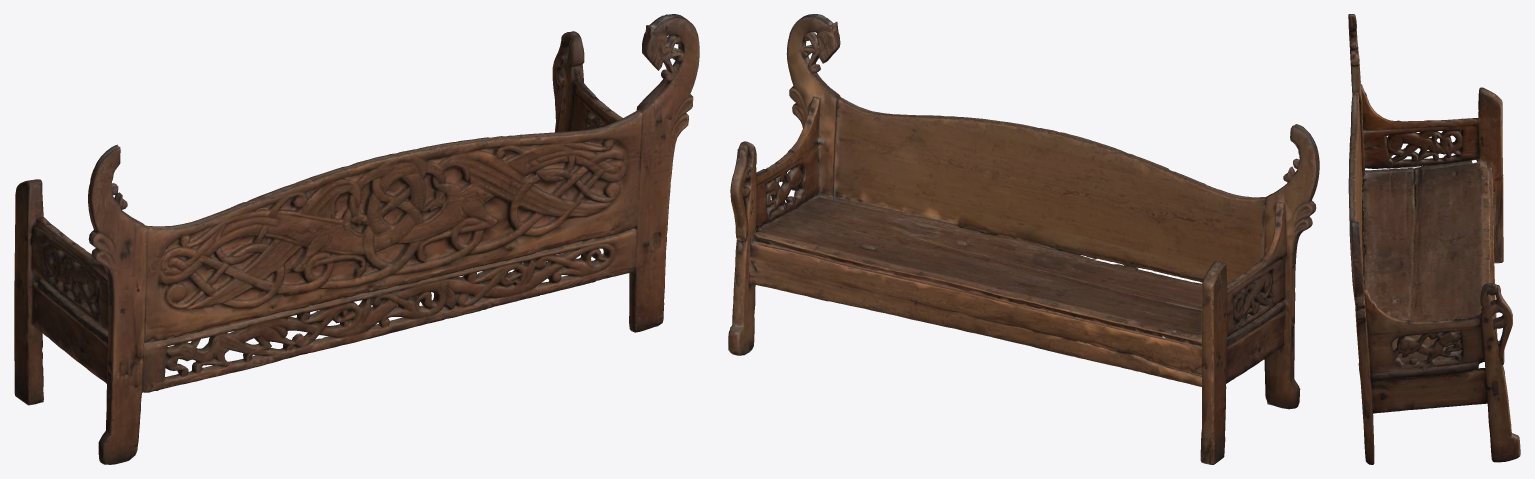
The model's file is bench_the_kungsa_ra_historiska.glb.
The picture shows the model from 3 angles, left to right: view 1: azimuth 30°, elevation 25°; view 2: azimuth 150°, elevation 25°; view 3: azimuth 270°, elevation 25°; orthographic projection. The views are drawn at different scales.
Visible parts, largest first — view 1: Object_2; view 2: Object_2; view 3: Object_2.
Part boxes in pixels (x1=…): Object_2: x1=14, y1=14, x2=699, y2=464; Object_2: x1=728, y1=14, x2=1319, y2=464; Object_2: x1=1348, y1=14, x2=1520, y2=464.
Bounding box in the file's own units: 2.15 × 1.09 × 0.6915.
1 material, 1 textured.
